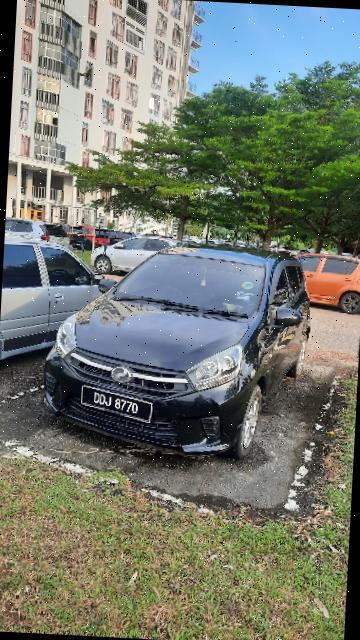License_Plate: (69, 382, 160, 428)
car: (44, 221, 318, 465), (1, 236, 120, 377), (278, 244, 360, 313)
